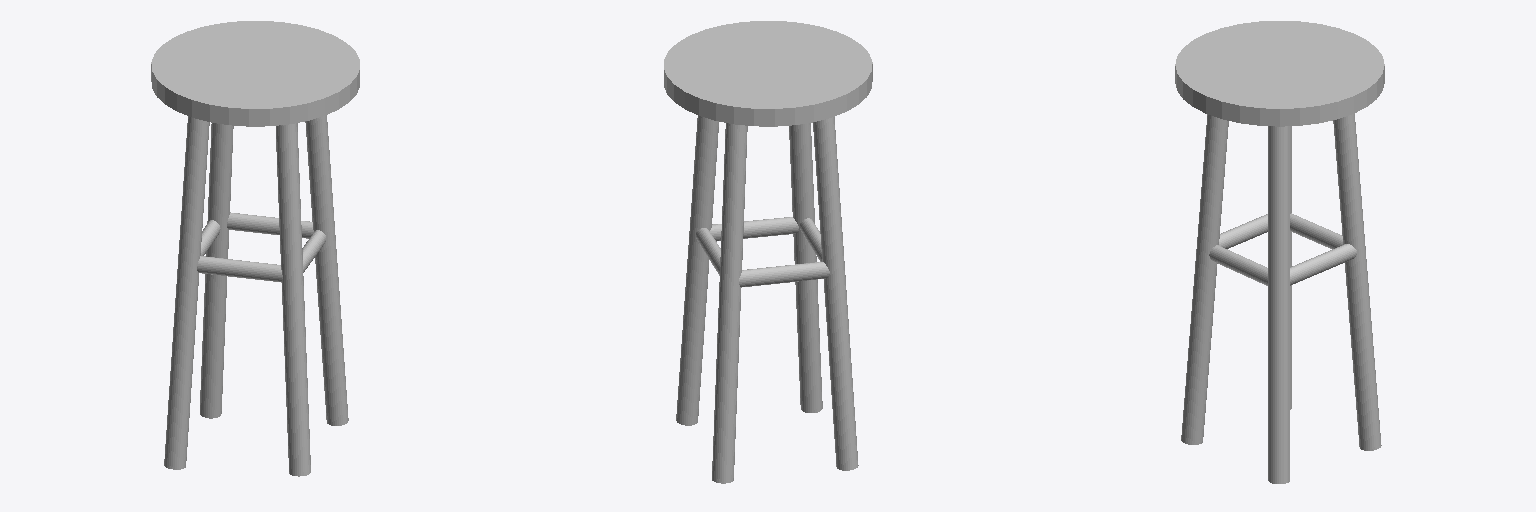
File: Stool.obj
3 renders of one model, left to right at view 1: azimuth 30°, elevation 25°; view 2: azimuth 150°, elevation 25°; view 3: azimuth 270°, elevation 25°, orthographic.
Parts seen in each view (by area): view 1: Cylinder, Cylinder.002, Cylinder.004, Cylinder.003, Cylinder.001, Cylinder.006, Cylinder.007; view 2: Cylinder, Cylinder.001, Cylinder.004, Cylinder.003, Cylinder.002, Cylinder.008, Cylinder.005, Cylinder.007; view 3: Cylinder, Cylinder.003, Cylinder.001, Cylinder.002, Cylinder.007, Cylinder.005, Cylinder.008, Cylinder.006.
Part boxes in pixels (left/top/right/bottom): Cylinder: left=151, top=21, right=359, bottom=126; Cylinder.002: left=276, top=123, right=310, bottom=476; Cylinder.004: left=164, top=116, right=209, bottom=469; Cylinder.003: left=305, top=115, right=348, bottom=425; Cylinder.001: left=200, top=123, right=233, bottom=418; Cylinder.006: left=197, top=256, right=282, bottom=282; Cylinder.007: left=227, top=212, right=313, bottom=238; Cylinder: left=664, top=21, right=872, bottom=126; Cylinder.001: left=712, top=123, right=747, bottom=483; Cylinder.004: left=813, top=117, right=858, bottom=470; Cylinder.003: left=676, top=116, right=718, bottom=425; Cylinder.002: left=789, top=123, right=822, bottom=412; Cylinder.008: left=739, top=262, right=829, bottom=287; Cylinder.005: left=710, top=217, right=798, bottom=241; Cylinder.007: left=696, top=228, right=720, bottom=275; Cylinder: left=1175, top=21, right=1384, bottom=126; Cylinder.003: left=1268, top=126, right=1289, bottom=483; Cylinder.001: left=1333, top=114, right=1381, bottom=450; Cylinder.002: left=1181, top=114, right=1228, bottom=444; Cylinder.007: left=1290, top=244, right=1356, bottom=285; Cylinder.005: left=1209, top=245, right=1267, bottom=285; Cylinder.008: left=1290, top=213, right=1342, bottom=249; Cylinder.006: left=1219, top=214, right=1267, bottom=248.
Bounding box in the file's own units: 1.51 × 3.04 × 1.51.